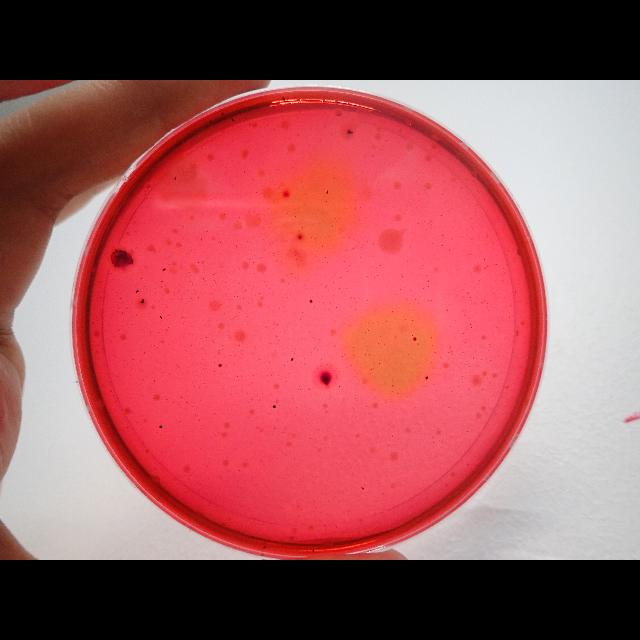colony: (106, 245, 136, 273), (316, 366, 338, 392), (342, 123, 356, 139), (283, 190, 289, 198), (230, 116, 236, 124), (220, 111, 226, 117), (172, 175, 178, 181), (134, 288, 140, 294), (140, 298, 146, 304), (158, 314, 164, 320), (162, 266, 166, 274), (324, 190, 330, 194), (298, 235, 302, 241), (208, 118, 212, 124), (218, 362, 222, 368), (272, 404, 276, 410), (158, 424, 164, 428), (262, 544, 266, 550), (311, 547, 315, 553), (360, 486, 366, 490), (424, 375, 430, 379), (413, 336, 417, 342), (309, 298, 313, 304), (290, 357, 294, 361), (281, 96, 285, 100)
